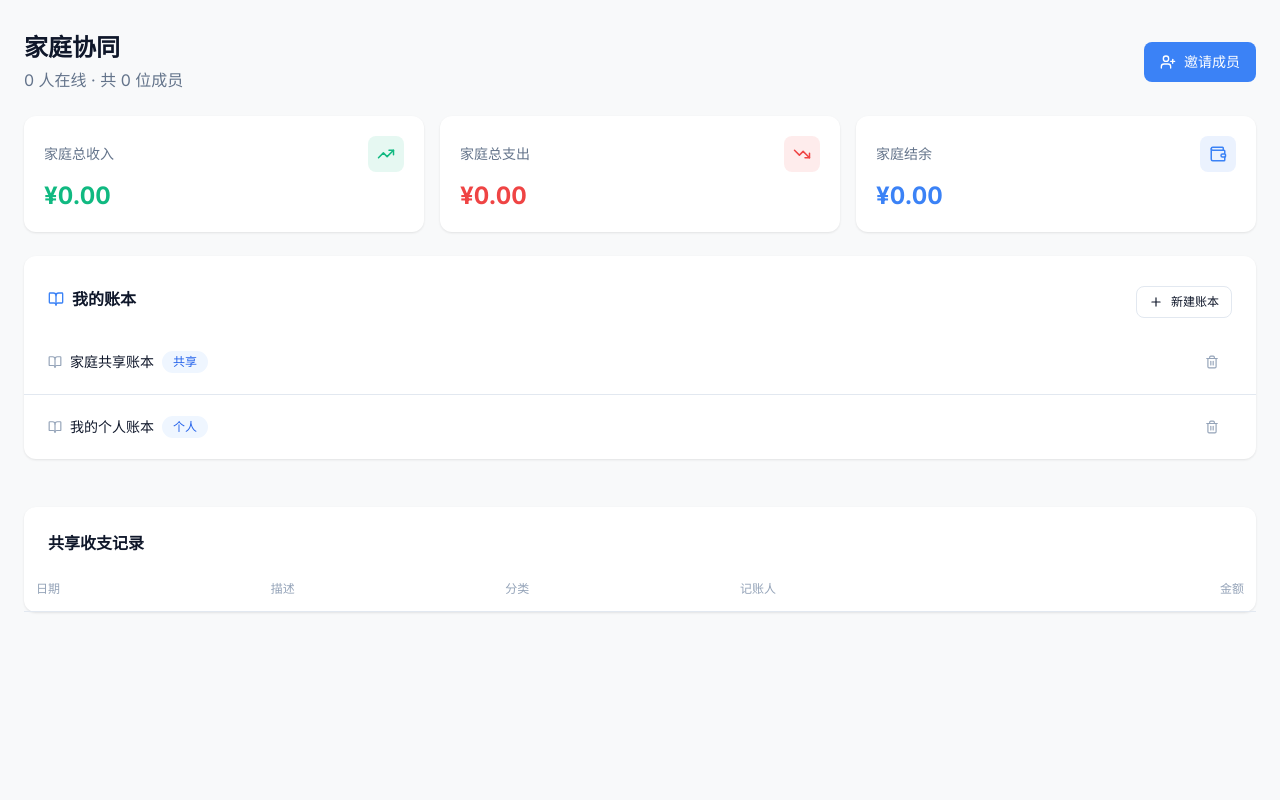
FamilyLedgerPage - 我的账本区块（真实账本列表） › ② 点击"新建账本"展开创建输入框
This screenshot has width=1280, height=800.
Check: the text "家庭共享账本" is shown, box [70,352,154,372]
Click the button "新建账本".
click(1184, 302)  # box [1136,286,1232,318]
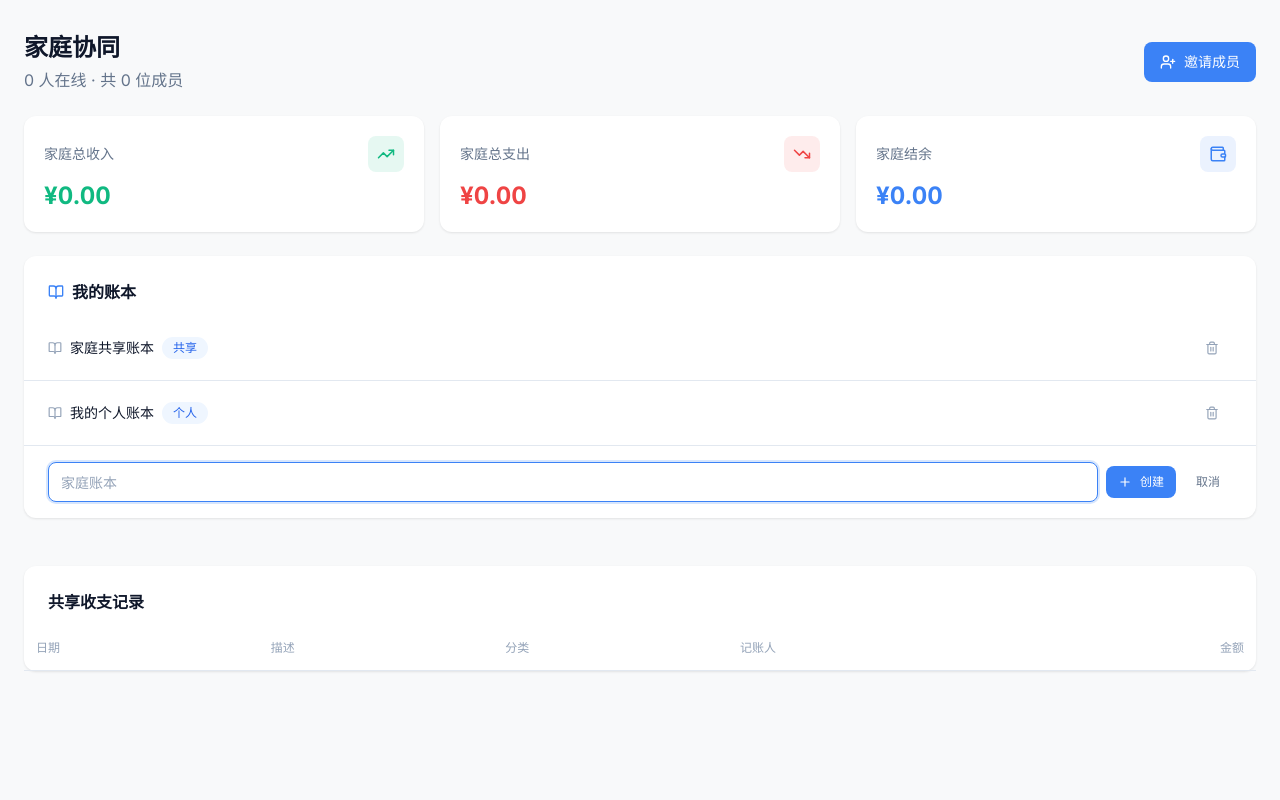
Check: the field with placeholder "家庭账本" is shown, box [48,462,1098,502]
